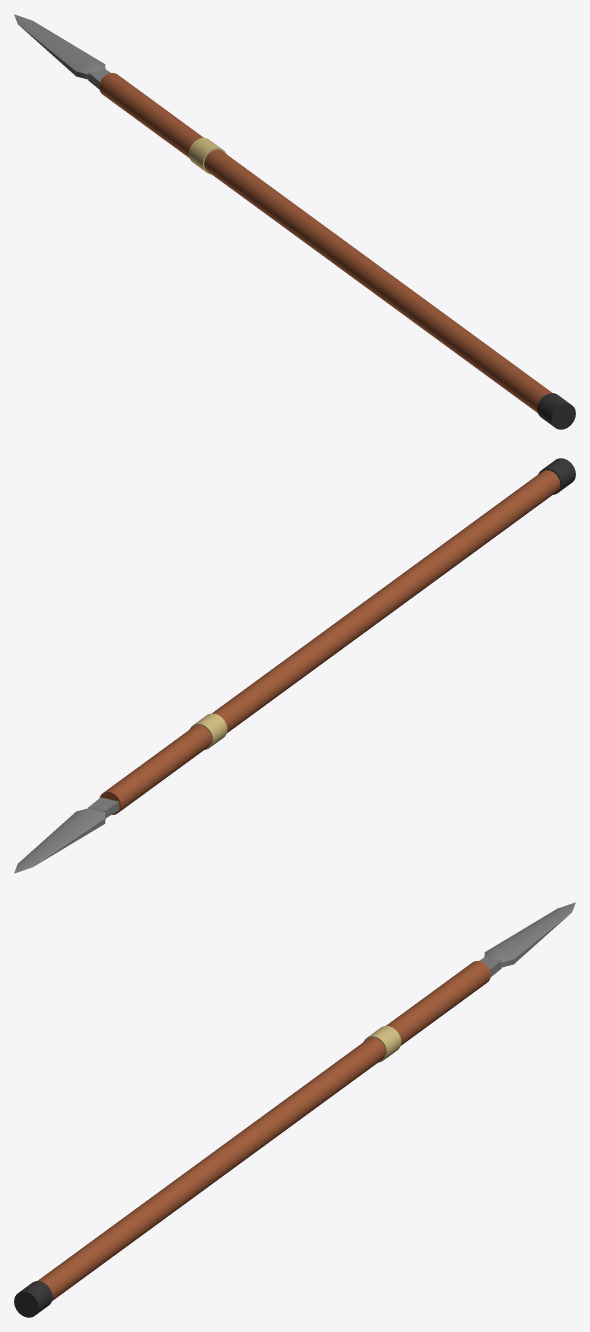
File: spear.fbx
3 renders of one model, top to bottom at view 1: azimuth 30°, elevation 25°; view 2: azimuth 150°, elevation 25°; view 3: azimuth 330°, elevation 25°, orthographic.
Parts seen in each view (by area): view 1: spear3, spear1, spear5, spear4; view 2: spear3, spear1, spear4, spear5; view 3: spear3, spear1, spear5, spear4.
Part boxes in pixels (x1,y1,x2,y2): spear3: (99,73,551,412); spear1: (14,14,105,79); spear5: (537,393,575,429); spear4: (188,138,226,174); spear3: (99,470,560,814); spear1: (14,808,105,873); spear4: (189,713,227,749); spear5: (538,458,575,494); spear3: (38,961,490,1300); spear1: (484,902,575,967); spear5: (14,1281,52,1317); spear4: (363,1026,401,1062).
Bounding box in the file's own units: 4.39 × 3.71 × 144.
